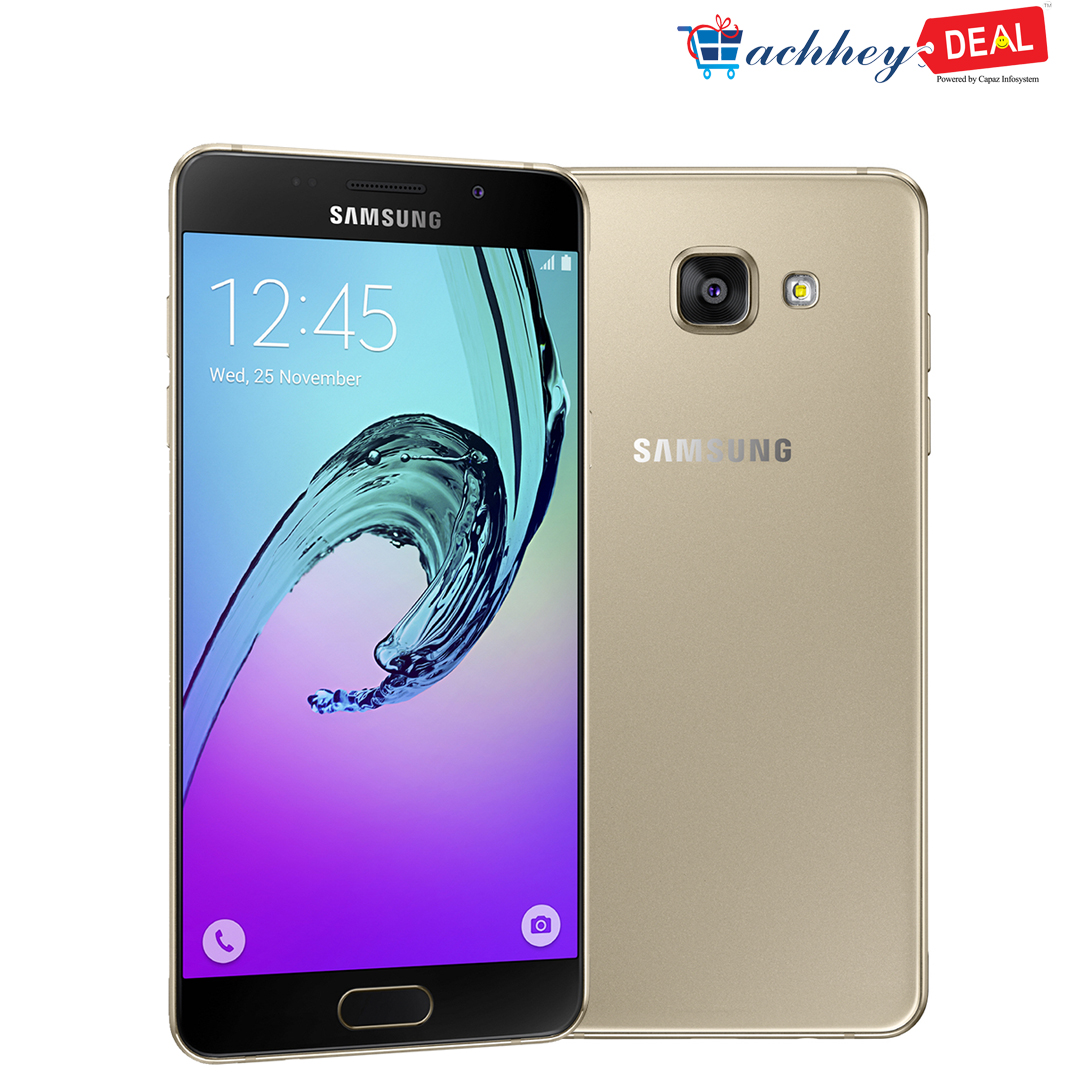mobile: (143, 138, 643, 1056)
